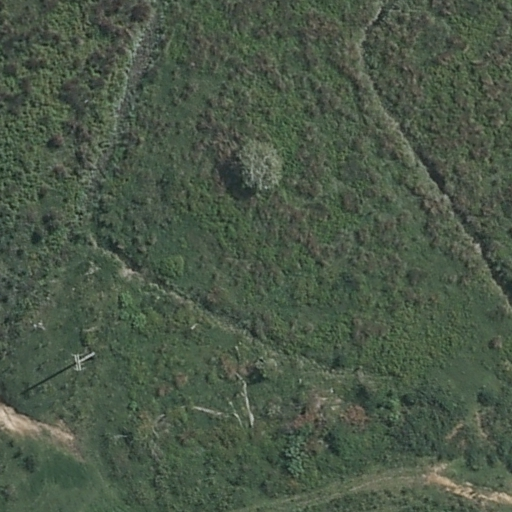DT: (69, 349, 95, 376)
